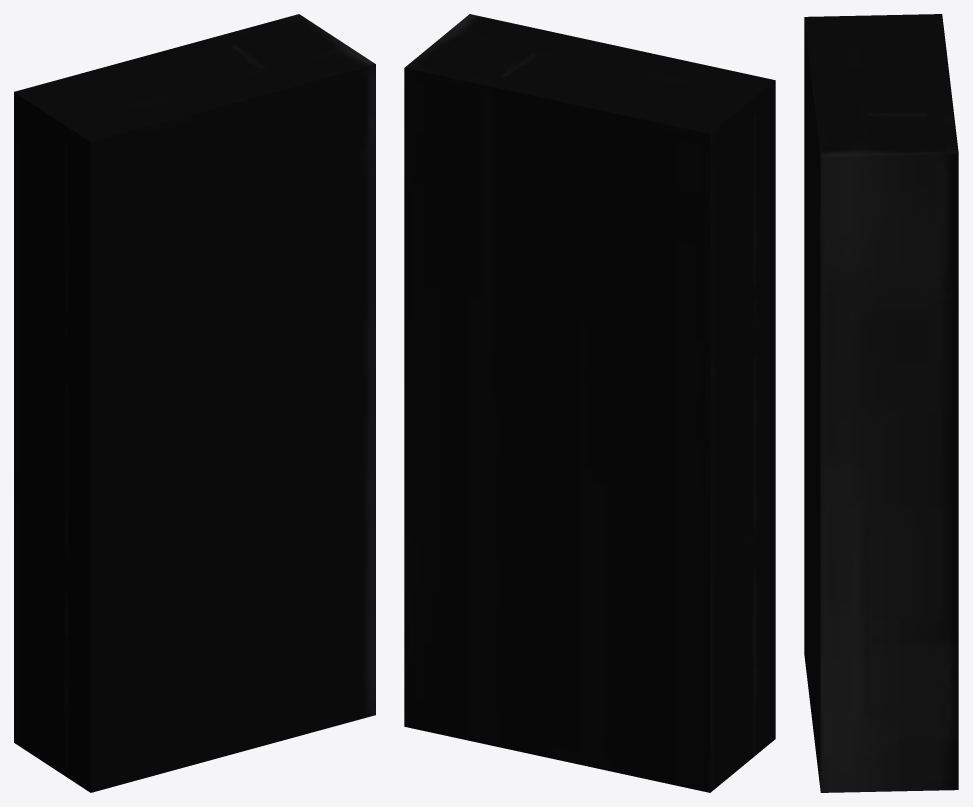
File: seat__seat_pad_bridge.glb
3 renders of one model, left to right at view 1: azimuth 30°, elevation 25°; view 2: azimuth 150°, elevation 25°; view 3: azimuth 270°, elevation 25°, orthographic. The views are drawn at different scales.
Parts seen in each view (by area): view 1: world; view 2: world; view 3: world.
Part boxes in pixels (<box>): world: <box>14,14,375,792</box>; world: <box>404,14,775,792</box>; world: <box>804,14,958,792</box>.
Size of the model in its own units: 0.0918 by 0.1904 by 0.042.
1 material, 1 textured.
